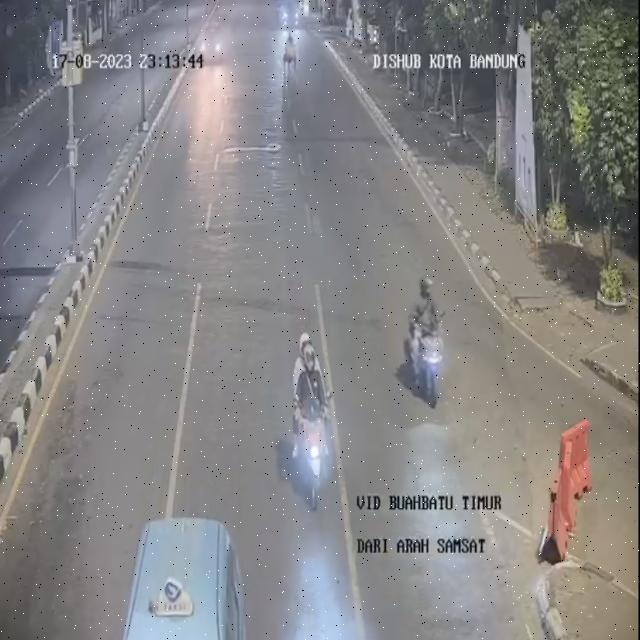cars: (106, 502, 243, 640), (202, 15, 230, 70)
motorcycle: (278, 323, 339, 509), (400, 272, 448, 404)
